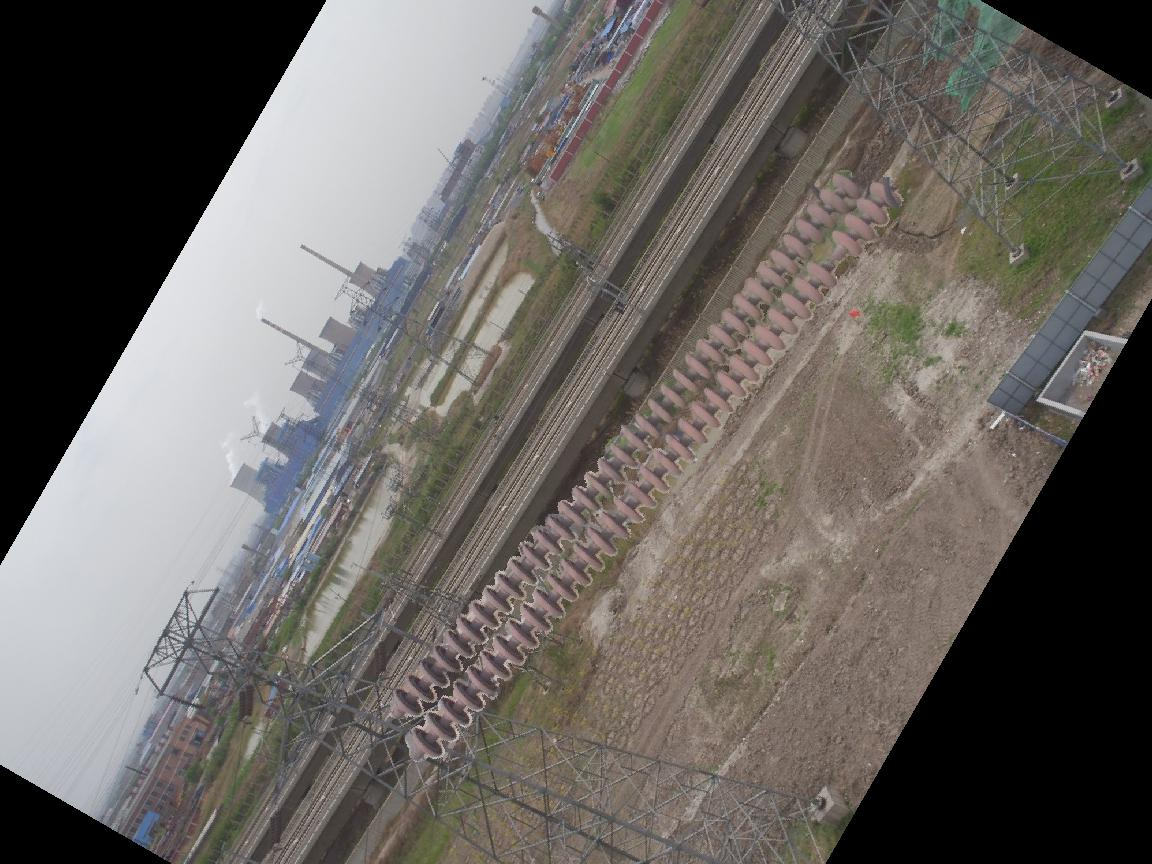insulator: (386, 161, 916, 765)
insulator_stringdrop: (804, 225, 865, 290)
